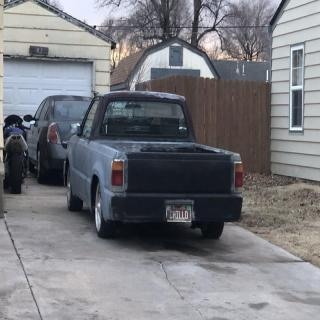license: (167, 205, 193, 224)
